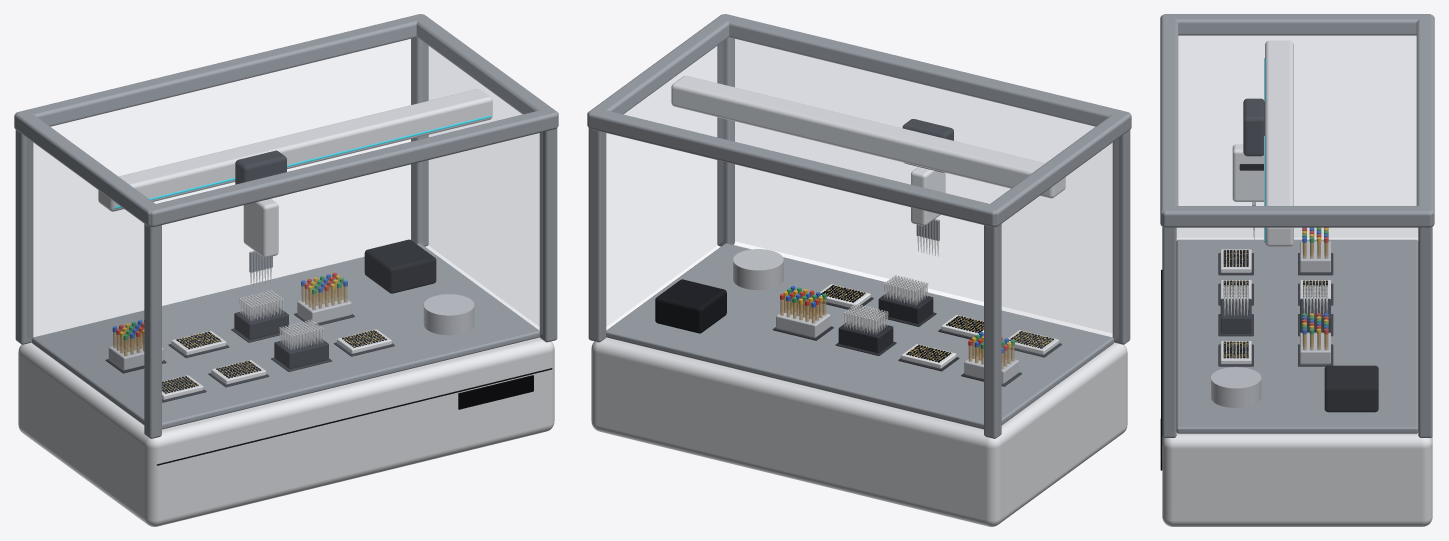
Rendered from liquidHandler.glb.
3 views of the same model, side by side, from view 1: azimuth 30°, elevation 25°; view 2: azimuth 150°, elevation 25°; view 3: azimuth 270°, elevation 25° (orthographic).
Visible parts, largest first — view 1: glassFront, hood, baseCabinet, liquidHandler, deckPlate, beam, waste, box (×2), tips (×2), shaker, rack (×2), headBody (+6 smaller); view 2: hood, baseCabinet, liquidHandler, deckPlate, glassFront, beam, waste, box (×2), tips (×2), shaker, rack (×2), deck (+4 smaller); view 3: hood, deckPlate, baseCabinet, liquidHandler, beam, waste, shaker, box (×2), rack (×2), deck, headBody, body (×3) (+5 smaller).
Part boxes in pixels (box(x1,y1,x2,y2)): glassFront: box(162, 133, 542, 426); hood: box(27, 23, 536, 422); baseCabinet: box(18, 337, 554, 526); liquidHandler: box(14, 14, 558, 465); deckPlate: box(32, 243, 539, 429); beam: box(98, 89, 492, 211); waste: box(364, 239, 436, 293); box (×2): box(234, 308, 328, 368); tips (×2): box(239, 290, 323, 350); shaker: box(423, 294, 474, 335); rack (×2): box(108, 294, 351, 370); headBody: box(243, 198, 278, 257); hood: box(607, 23, 1118, 422); baseCabinet: box(591, 337, 1127, 526); liquidHandler: box(587, 14, 1131, 438); deckPlate: box(606, 243, 1113, 429); glassFront: box(732, 164, 983, 301); beam: box(671, 75, 1065, 198); waste: box(655, 279, 726, 333); box (×2): box(838, 292, 933, 353); tips (×2): box(844, 274, 928, 334); shaker: box(733, 249, 783, 290); rack (×2): box(776, 307, 1018, 383); deck: box(772, 297, 1061, 386); hood: box(1177, 21, 1417, 428); deckPlate: box(1176, 239, 1418, 433); baseCabinet: box(1162, 432, 1432, 526); liquidHandler: box(1160, 14, 1434, 462); beam: box(1265, 40, 1293, 246); waste: box(1324, 365, 1378, 412); shaker: box(1211, 367, 1261, 407); box (×2): box(1220, 298, 1330, 333); rack (×2): box(1300, 241, 1330, 364); deck: box(1218, 253, 1333, 366); headBody: box(1232, 144, 1263, 201); body (×3): box(1220, 249, 1251, 364).
Bounding box in the file's own units: 1.31 × 0.975 × 0.76.
